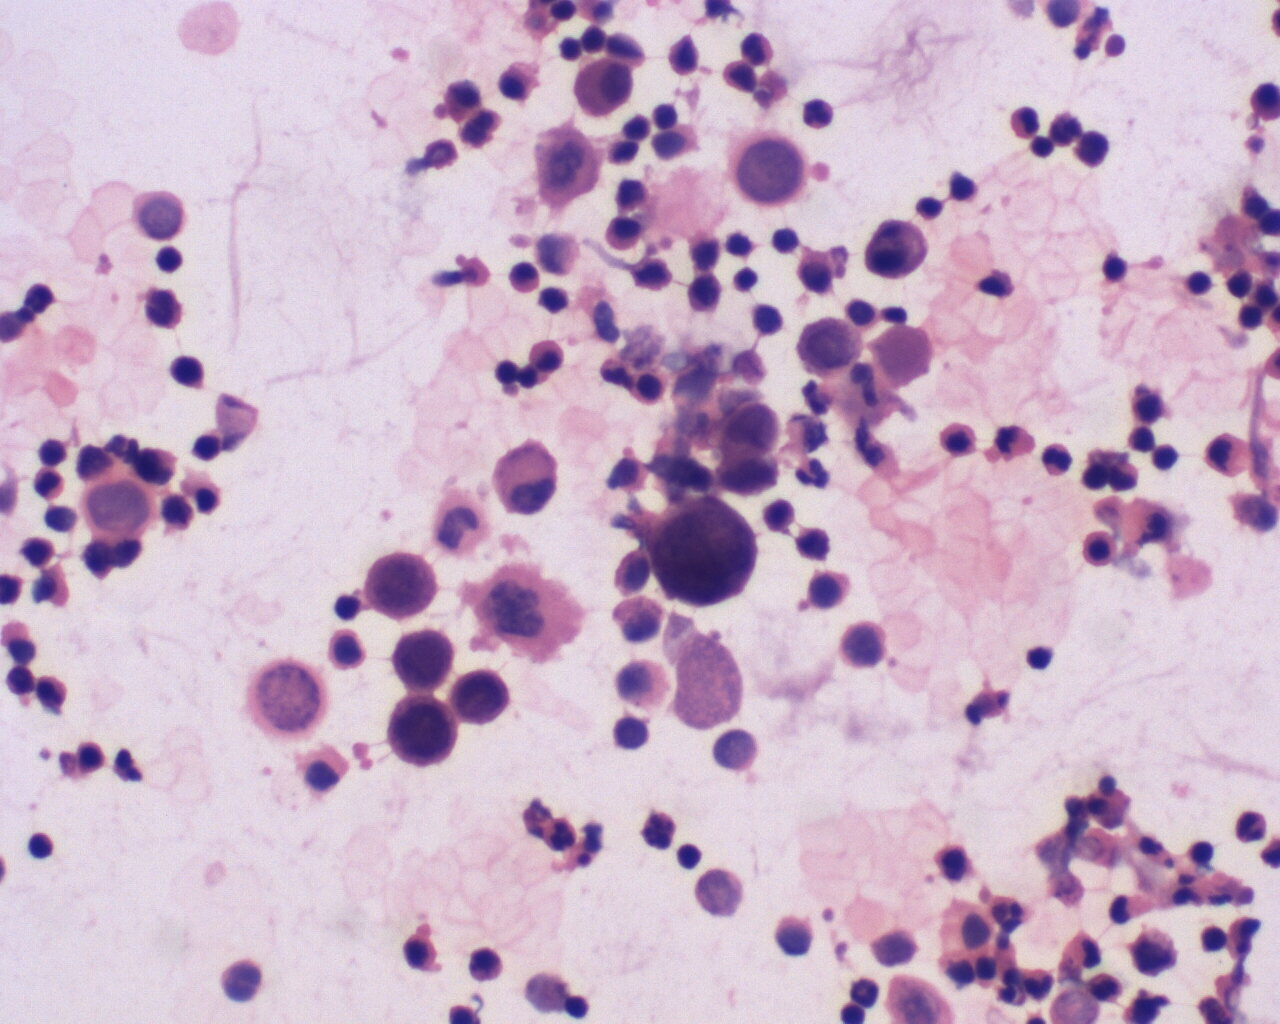ab: (653, 496, 759, 608), (729, 133, 815, 212), (366, 548, 441, 623), (385, 694, 458, 768), (866, 216, 931, 285), (389, 628, 453, 695), (795, 315, 860, 375), (453, 666, 512, 731), (716, 398, 781, 456), (719, 453, 781, 498)
lymph: (22, 827, 56, 863), (767, 225, 804, 258), (1180, 267, 1215, 300), (152, 245, 186, 276), (669, 840, 703, 871)
meso: (489, 436, 566, 518), (567, 57, 635, 120)
neutro: (791, 457, 832, 497), (990, 894, 1030, 934), (798, 93, 837, 132), (1233, 806, 1270, 844), (540, 816, 578, 853), (1041, 441, 1074, 479)
